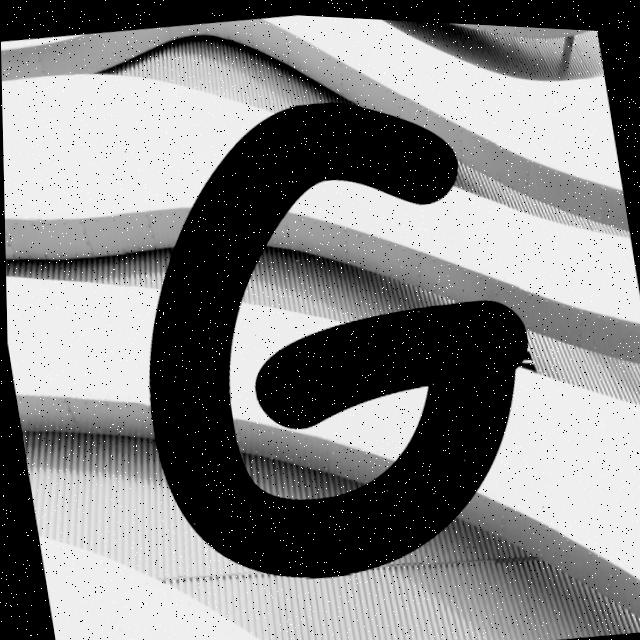G: (148, 100, 527, 575)
